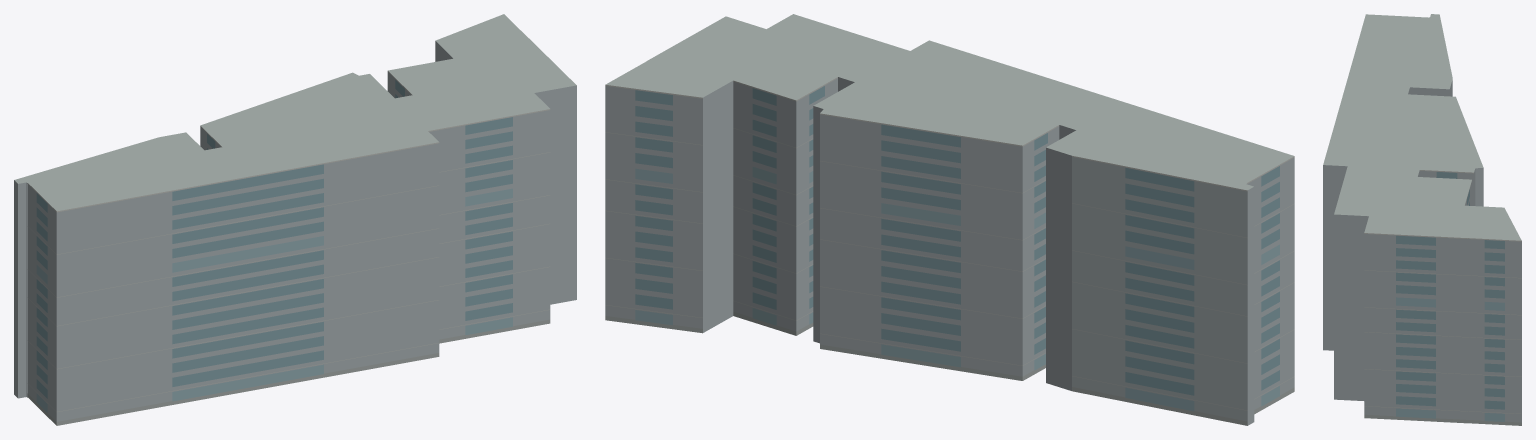
File: survey-upis-32742757.glb
3 views of the same model, side by side, from view 1: azimuth 30°, elevation 25°; view 2: azimuth 150°, elevation 25°; view 3: azimuth 270°, elevation 25° (orthographic). The views are drawn at different scales.
Parts seen in each view (by area): view 1: survey-upis-32742757.tmp; view 2: survey-upis-32742757.tmp; view 3: survey-upis-32742757.tmp.
Boxes of the visible parts, bbox=[...] form: survey-upis-32742757.tmp: bbox=[14, 14, 576, 425]; survey-upis-32742757.tmp: bbox=[605, 14, 1294, 425]; survey-upis-32742757.tmp: bbox=[1323, 14, 1521, 425].
Size of the model in its own units: 128 by 48.85 by 47.55.
